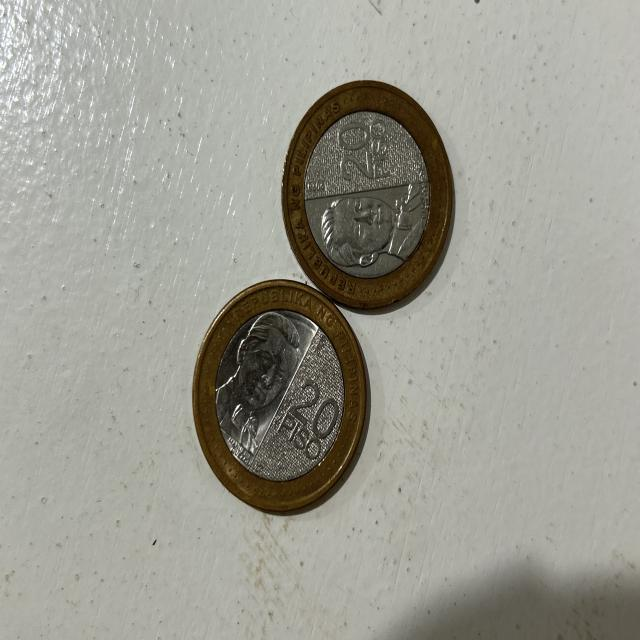20_New_Front: (333, 122, 377, 179), (294, 378, 338, 435)
